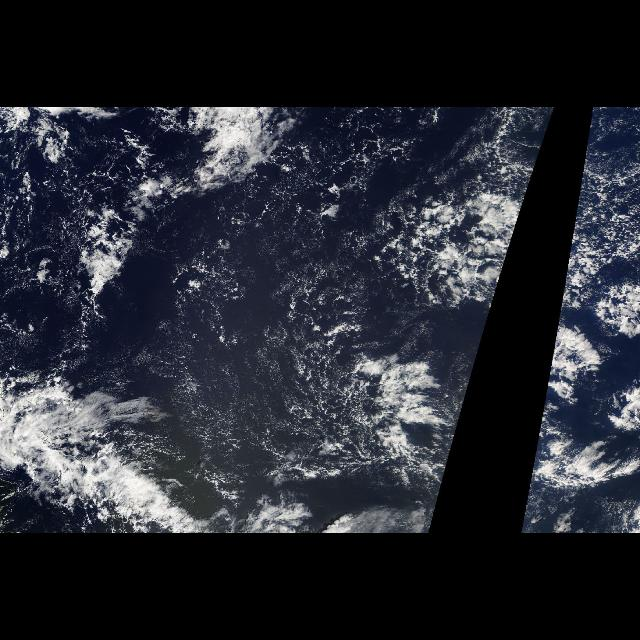Fish: (1, 109, 296, 297), (1, 373, 291, 533)
Flower: (376, 196, 526, 507), (524, 196, 640, 507)
Gravel: (272, 110, 554, 476), (5, 111, 156, 293), (558, 111, 614, 317)
Sugar: (149, 198, 363, 488)
